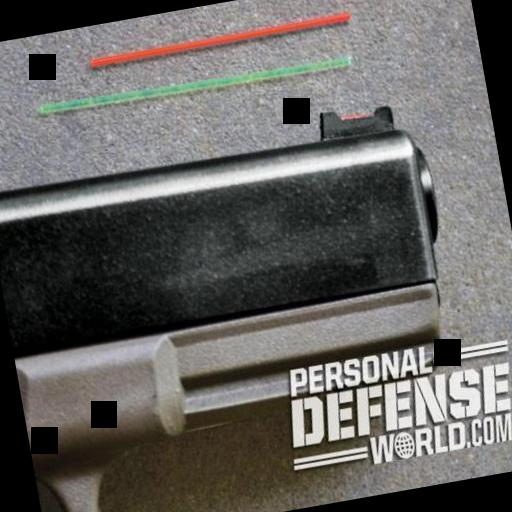Handgun: (0, 73, 488, 512)
